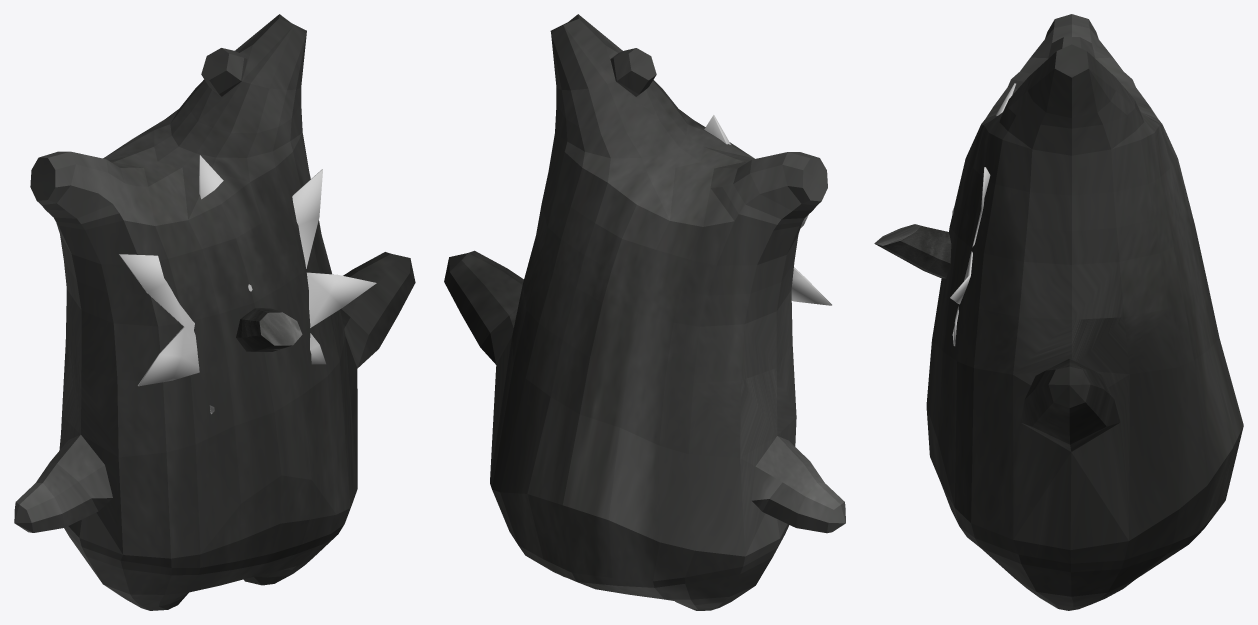
The model's file is frame_0034.obj.
3 renders of one model, left to right at view 1: azimuth 30°, elevation 25°; view 2: azimuth 150°, elevation 25°; view 3: azimuth 270°, elevation 25°, orthographic. The views are drawn at different scales.
Visible parts, largest first — view 1: korok, leaf, nose; view 2: korok, leaf; view 3: korok, nose, leaf.
Boxes of the visible parts, left/top/right/bottom form: korok: left=14, top=14, right=415, bottom=610; leaf: left=119, top=155, right=376, bottom=414; nose: left=236, top=308, right=302, bottom=352; korok: left=444, top=14, right=845, bottom=610; leaf: left=704, top=115, right=831, bottom=305; korok: left=926, top=14, right=1243, bottom=610; nose: left=874, top=224, right=951, bottom=278; leaf: left=950, top=83, right=1015, bottom=346.
Size of the model in its own units: 1.72 by 2.32 by 1.36.
